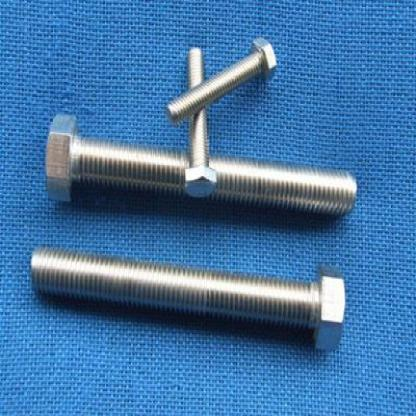FOD: (26, 241, 346, 355), (42, 110, 358, 218), (164, 36, 280, 126), (182, 45, 215, 203)
